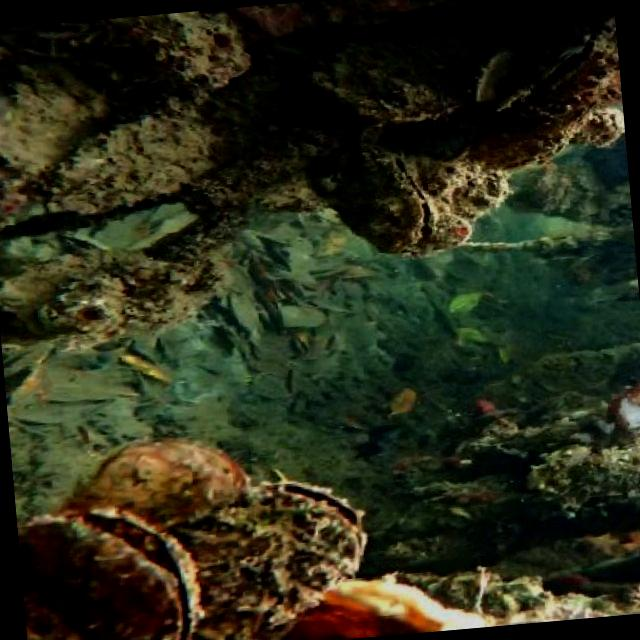Oyster-Closed: (35, 96, 239, 218), (60, 434, 250, 526), (91, 0, 256, 94), (318, 24, 466, 128), (278, 572, 494, 640), (0, 62, 101, 180), (528, 437, 640, 528), (603, 378, 640, 445)
Oyster-Open: (170, 475, 370, 639), (16, 506, 200, 636), (348, 149, 482, 261), (522, 14, 602, 98), (468, 42, 544, 126)
